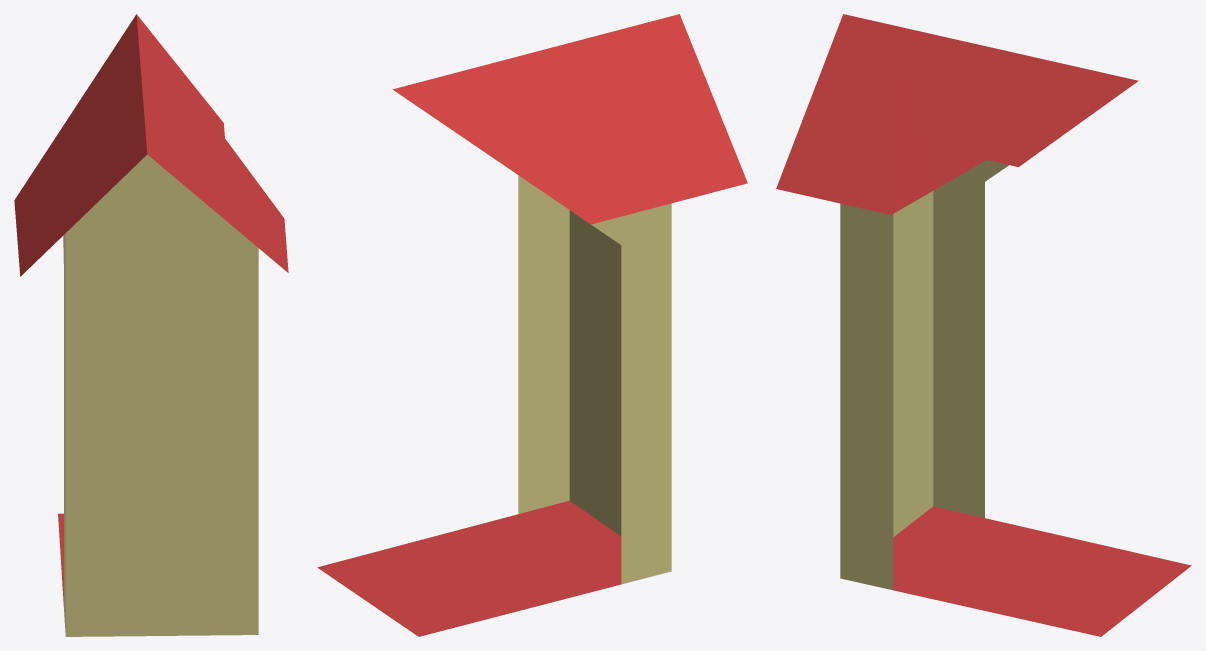
The picture shows the model from 3 angles, left to right: view 1: azimuth 30°, elevation 25°; view 2: azimuth 150°, elevation 25°; view 3: azimuth 270°, elevation 25°; orthographic projection.
Size of the model in its own units: 6.72 by 7.37 by 9.97.
